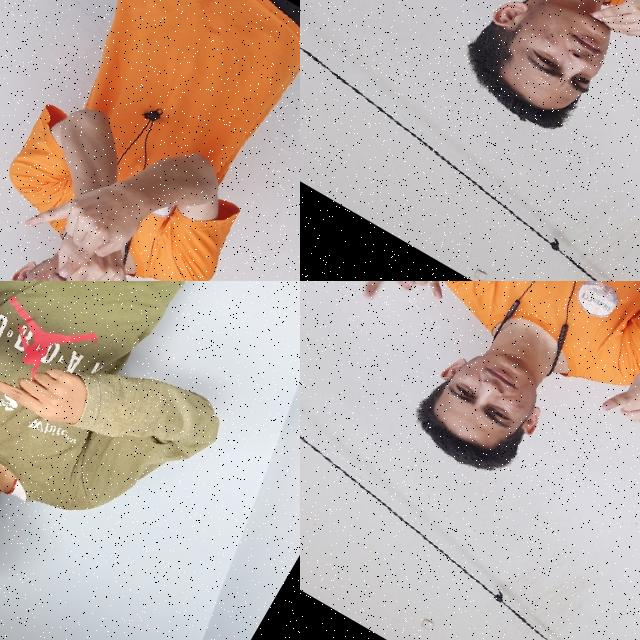Chin Flick: (437, 0, 640, 176)
Corna: (2, 138, 169, 281), (20, 197, 179, 281), (343, 281, 483, 341), (579, 344, 640, 478)
Five Fathers: (0, 281, 109, 460)
